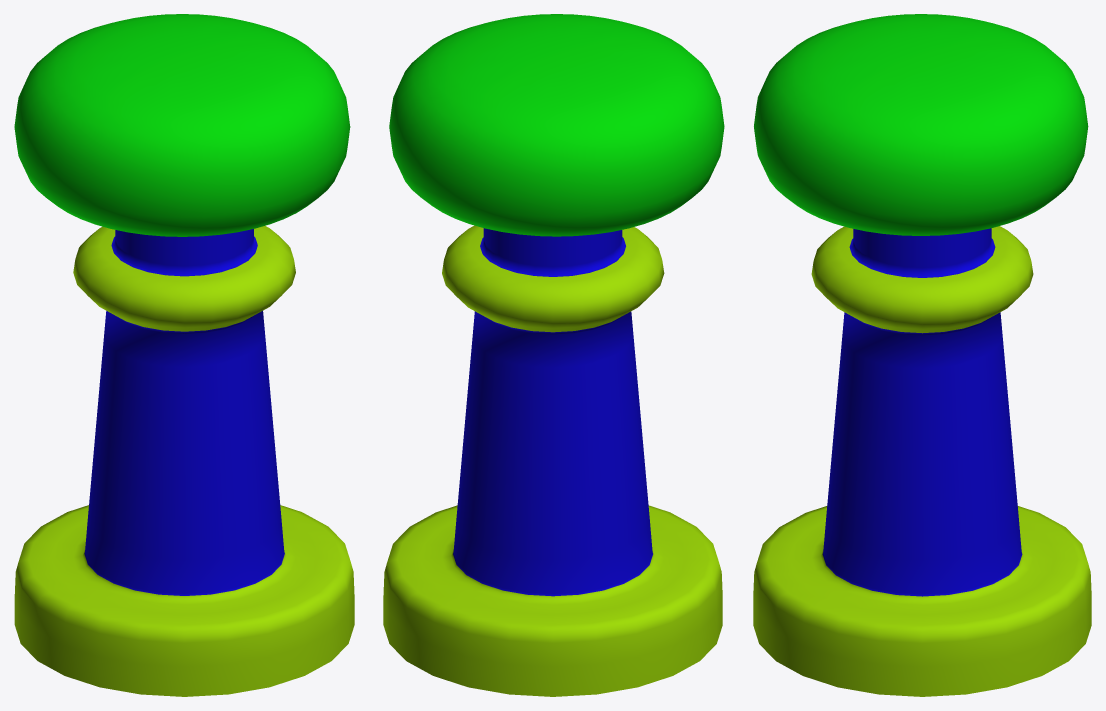
File: teslaTop.fbx
3 renders of one model, left to right at view 1: azimuth 30°, elevation 25°; view 2: azimuth 150°, elevation 25°; view 3: azimuth 270°, elevation 25°, orthographic.
Parts seen in each view (by area): view 1: teslaTop; view 2: teslaTop; view 3: teslaTop.
Part boxes in pixels (<box>): teslaTop: <box>14,14,354,696</box>; teslaTop: <box>383,14,724,696</box>; teslaTop: <box>753,14,1091,696</box>.
Size of the model in its own units: 0.1352 by 0.2502 by 0.1346.
